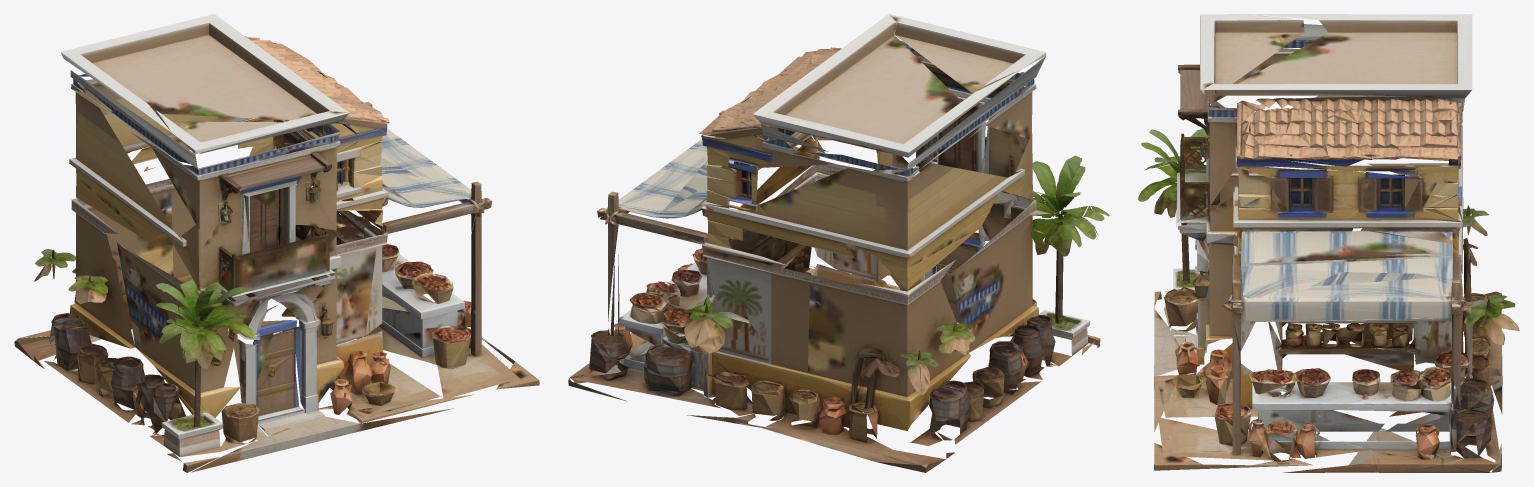
File: umkt.glb
3 renders of one model, left to right at view 1: azimuth 30°, elevation 25°; view 2: azimuth 150°, elevation 25°; view 3: azimuth 270°, elevation 25°, orthographic.
Parts seen in each view (by area): view 1: Object_4, Object_17, Object_6, Object_9, Object_14, Object_15, Object_16, Object_5, Object_8, Object_7, Object_11, Object_10 (+2 smaller); view 2: Object_14, Object_9, Object_17, Object_16, Object_5, Object_7, Object_12, Object_11, Object_10, Object_15, Object_4, Object_13 (+2 smaller); view 3: Object_17, Object_11, Object_10, Object_15, Object_7, Object_4, Object_16, Object_6, Object_13, Object_8, Object_12, Object_9 (+2 smaller).
Boxes of the visible parts, x1,y1,x2,y2 form: Object_4: (131,122,440,417); Object_17: (60,14,361,456); Object_6: (168,197,519,429); Object_9: (53,79,453,433); Object_14: (70,111,388,425); Object_15: (68,36,387,415); Object_16: (44,110,370,422); Object_5: (117,188,364,417); Object_8: (168,71,466,472); Object_7: (70,70,474,423); Object_11: (79,74,471,472); Object_10: (34,79,492,461); Object_14: (702,47,1043,438); Object_9: (627,160,1055,440); Object_17: (663,14,1090,406); Object_16: (630,14,1059,445); Object_5: (728,136,1047,352); Object_7: (570,56,1058,408); Object_12: (570,190,945,472); Object_11: (568,135,1100,415); Object_10: (600,110,1109,458); Object_15: (610,89,975,355); Object_4: (812,40,1081,289); Object_13: (677,49,1098,464); Object_17: (1163,14,1472,416); Object_11: (1154,186,1501,472); Object_10: (1145,147,1470,409); Object_15: (1192,96,1464,418); Object_7: (1154,24,1501,463); Object_4: (1149,48,1298,417); Object_16: (1138,14,1451,390); Object_6: (1154,101,1384,460); Object_13: (1154,108,1501,470); Object_8: (1141,111,1462,458); Object_12: (1318,186,1519,472); Object_9: (1175,95,1490,472).
Size of the model in its own units: 0.7958 by 0.6219 by 0.7124.
Materials: 1 (1 with a texture image).
